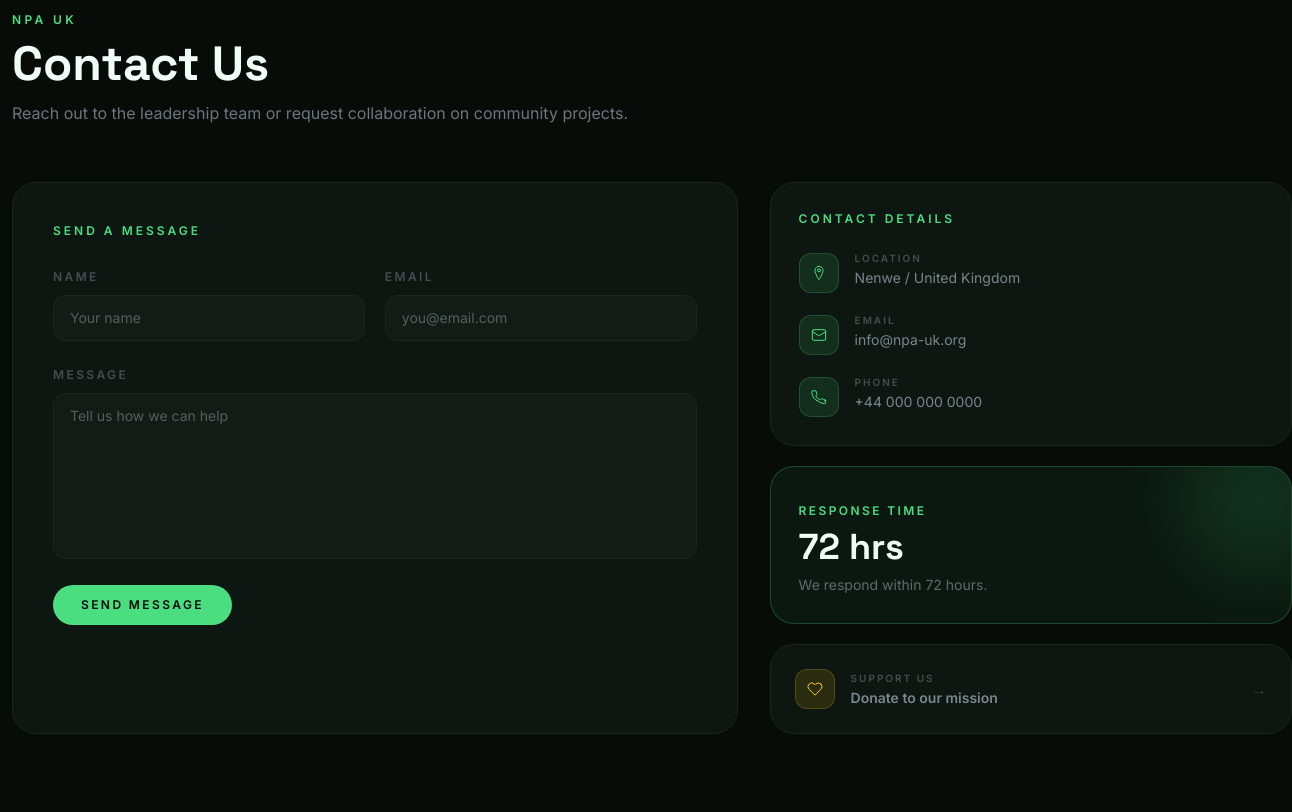
Test: Contact form › shows error message when Supabase returns an error
Type "Ada Eze" into the field with placeholder "Your name" at (209, 318), box [53,295,365,341]
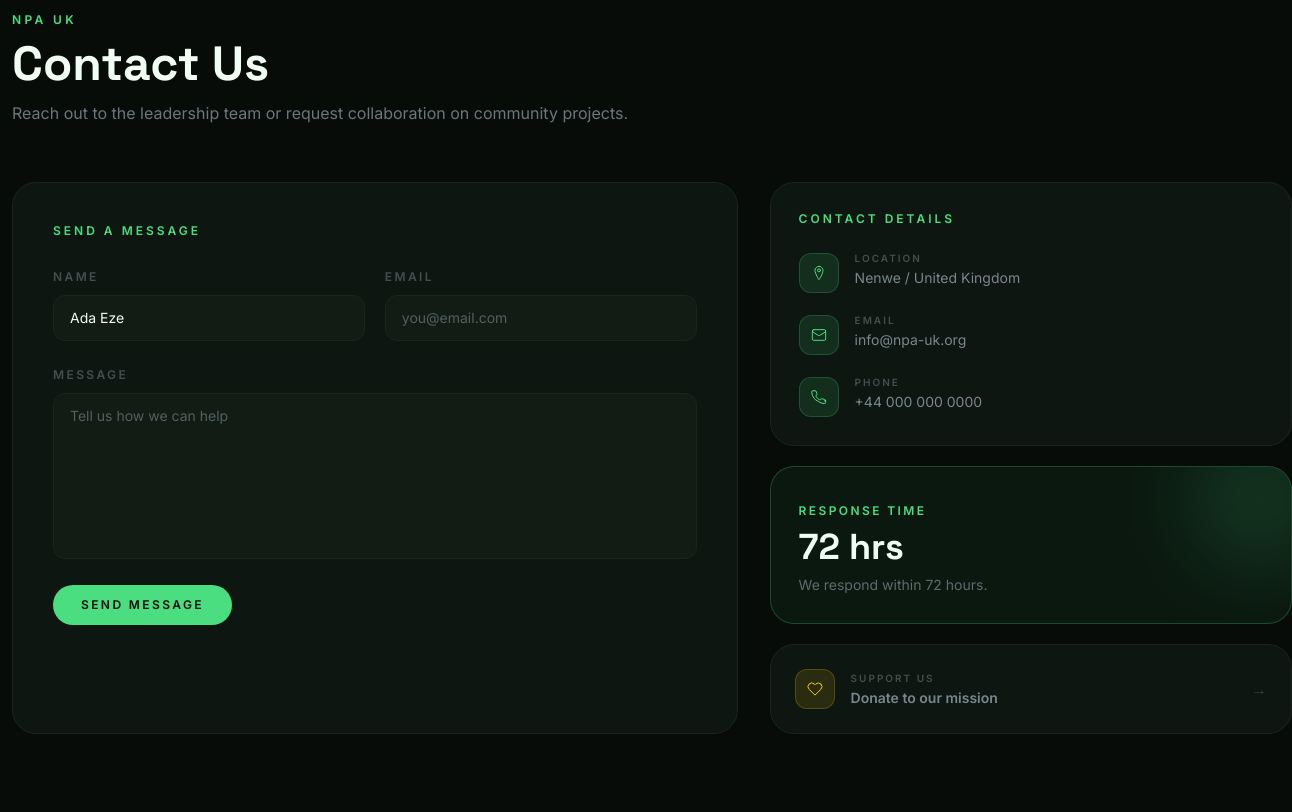
Type "ada@example.com" into the field with placeholder "you@email.com" at (541, 318), box [385,295,697,341]
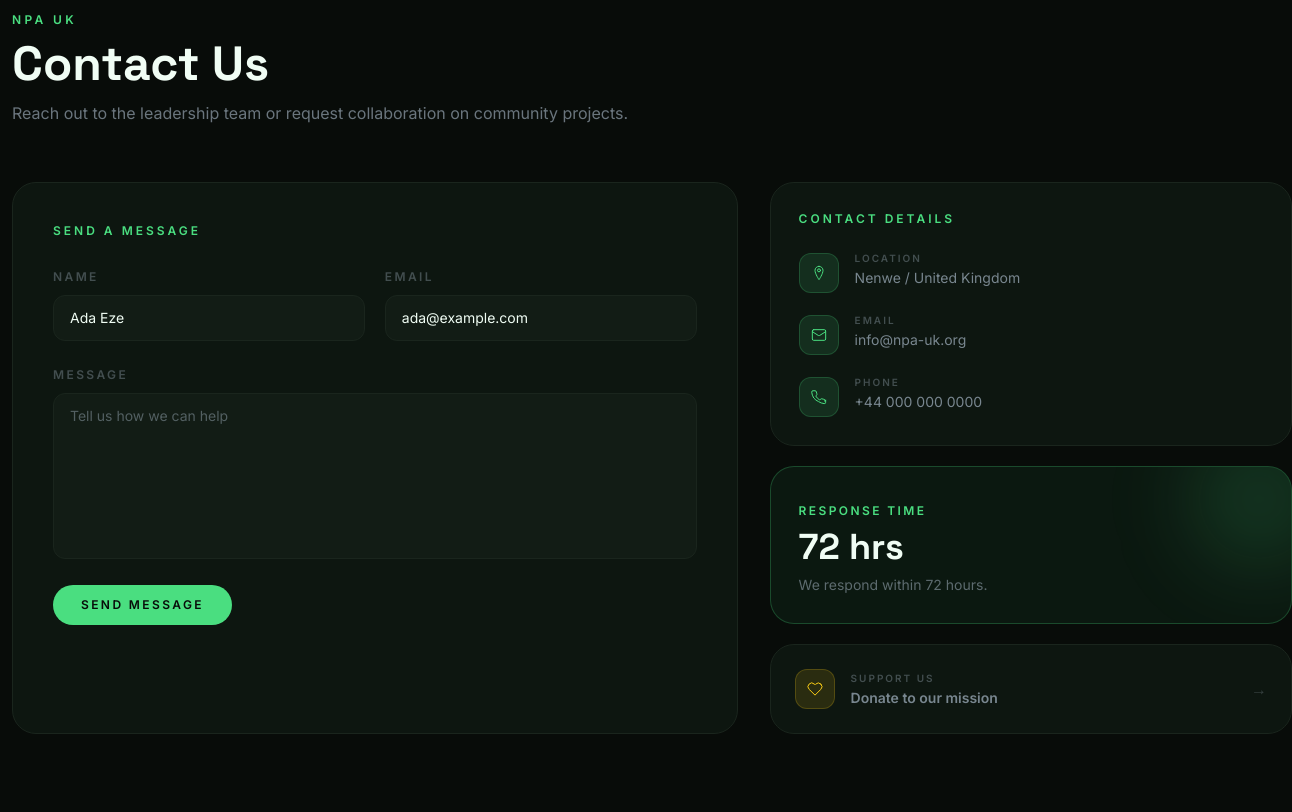
Type "Test message." into the text box with placeholder "Tell us how we can help" at (375, 476), box [53,393,697,559]
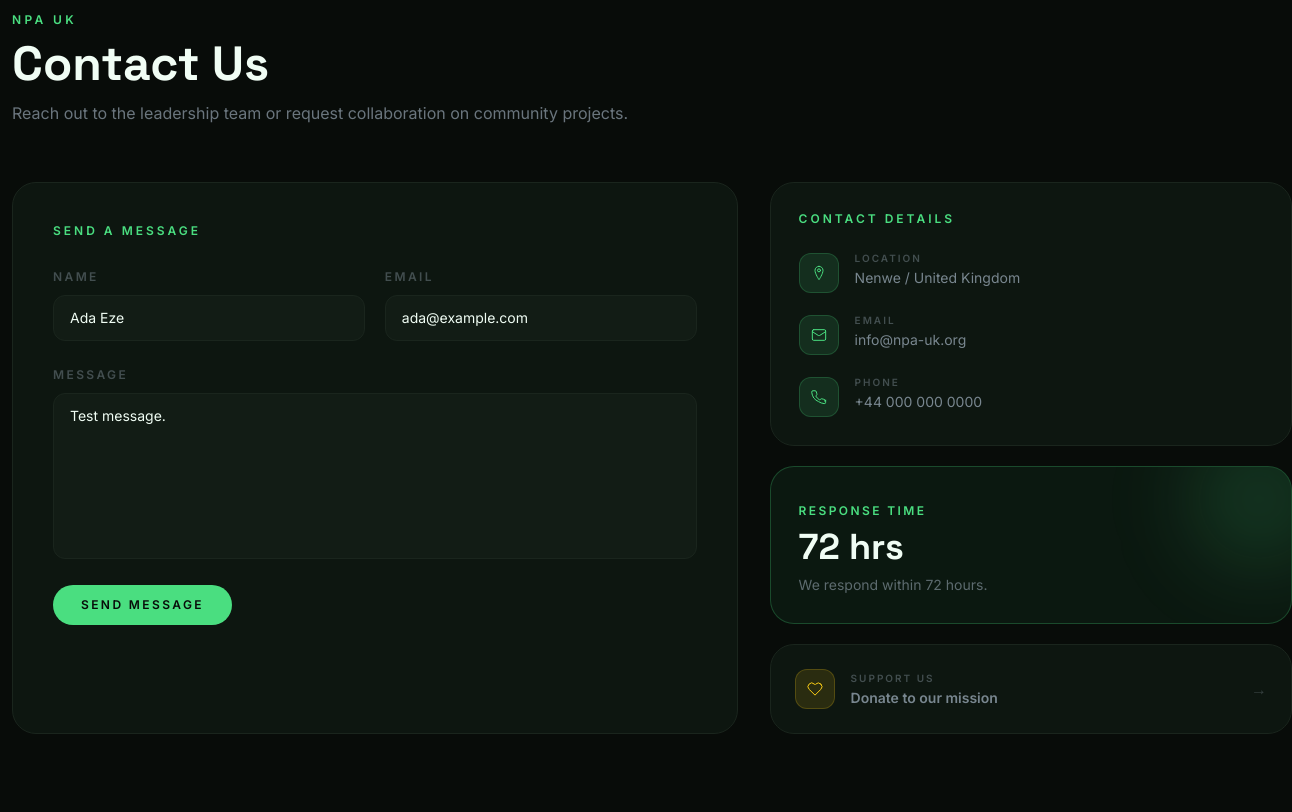
Click the button "Send Message" at (142, 605), box [53,585,232,625]
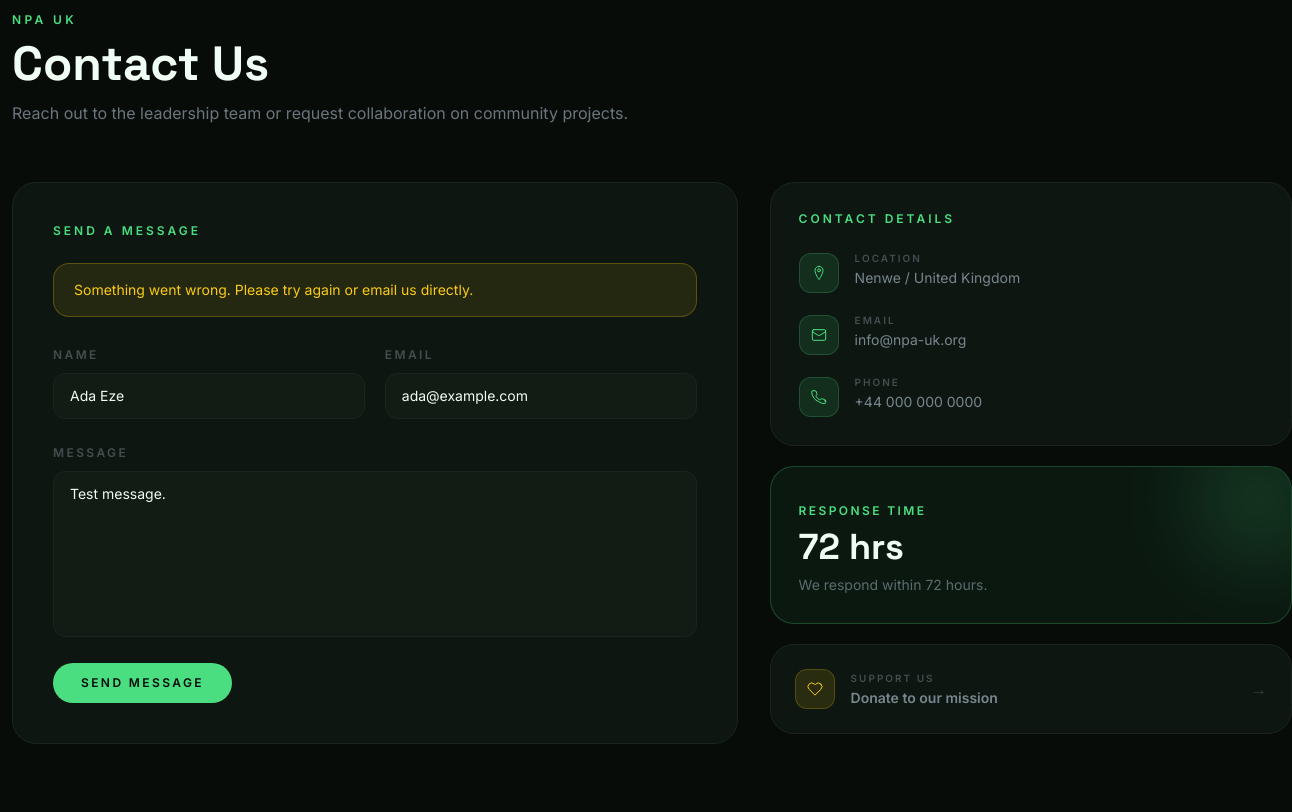
Expected: the text "Something went wrong. Please try again or email us directly." is shown, [53,263,697,317]
